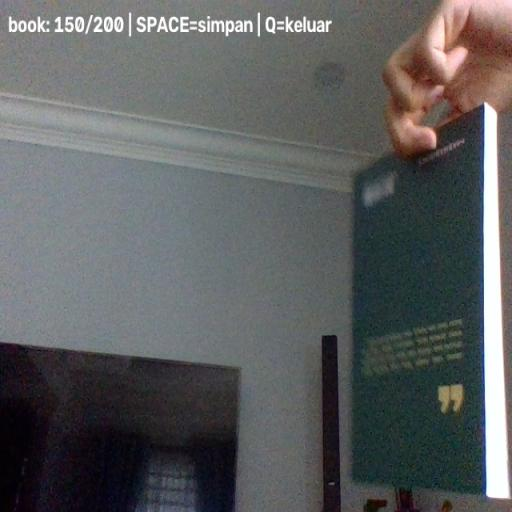Book: (351, 102, 511, 500)
